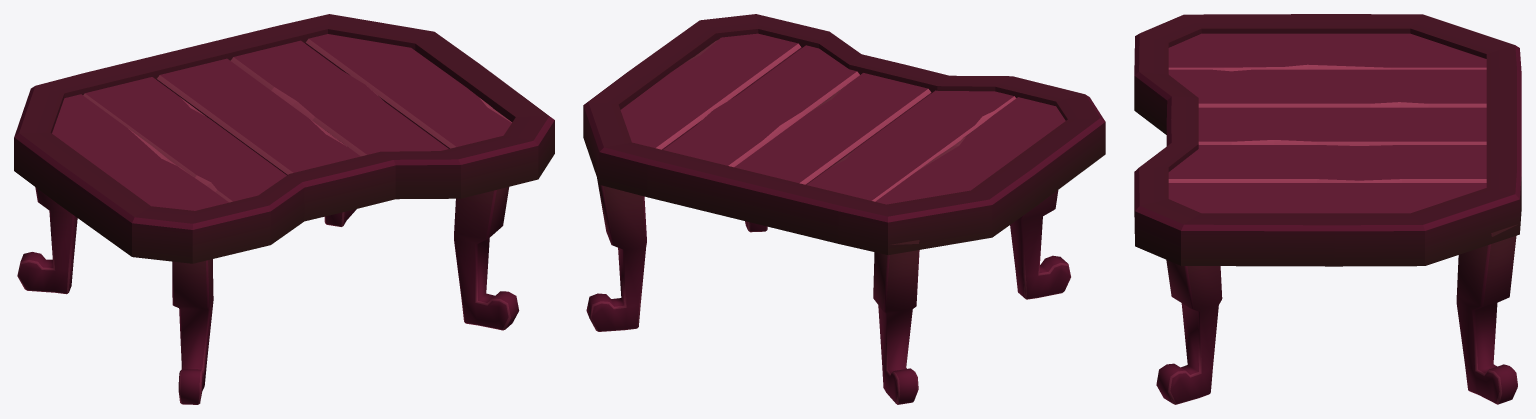
The model's file is desk.fbx.
3 views of the same model, side by side, from view 1: azimuth 30°, elevation 25°; view 2: azimuth 150°, elevation 25°; view 3: azimuth 270°, elevation 25° (orthographic). The views are drawn at different scales.
Visible parts, largest first — view 1: desk; view 2: desk; view 3: desk.
Part boxes in pixels (<box>): desk: <box>14,14,554,404</box>; desk: <box>583,14,1105,404</box>; desk: <box>1134,14,1521,404</box>.
Size of the model in its own units: 130 by 57.09 by 99.1.
1 material, 1 textured.
